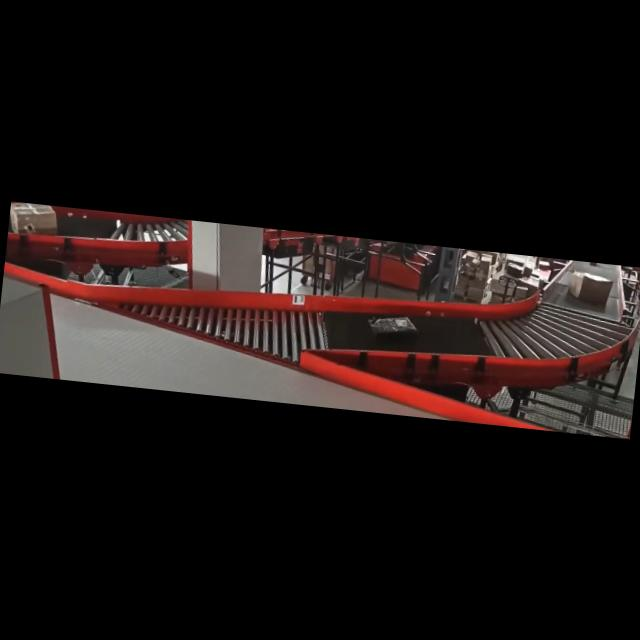box: (8, 201, 60, 240), (568, 269, 614, 305)
mailer: (370, 314, 418, 342)
